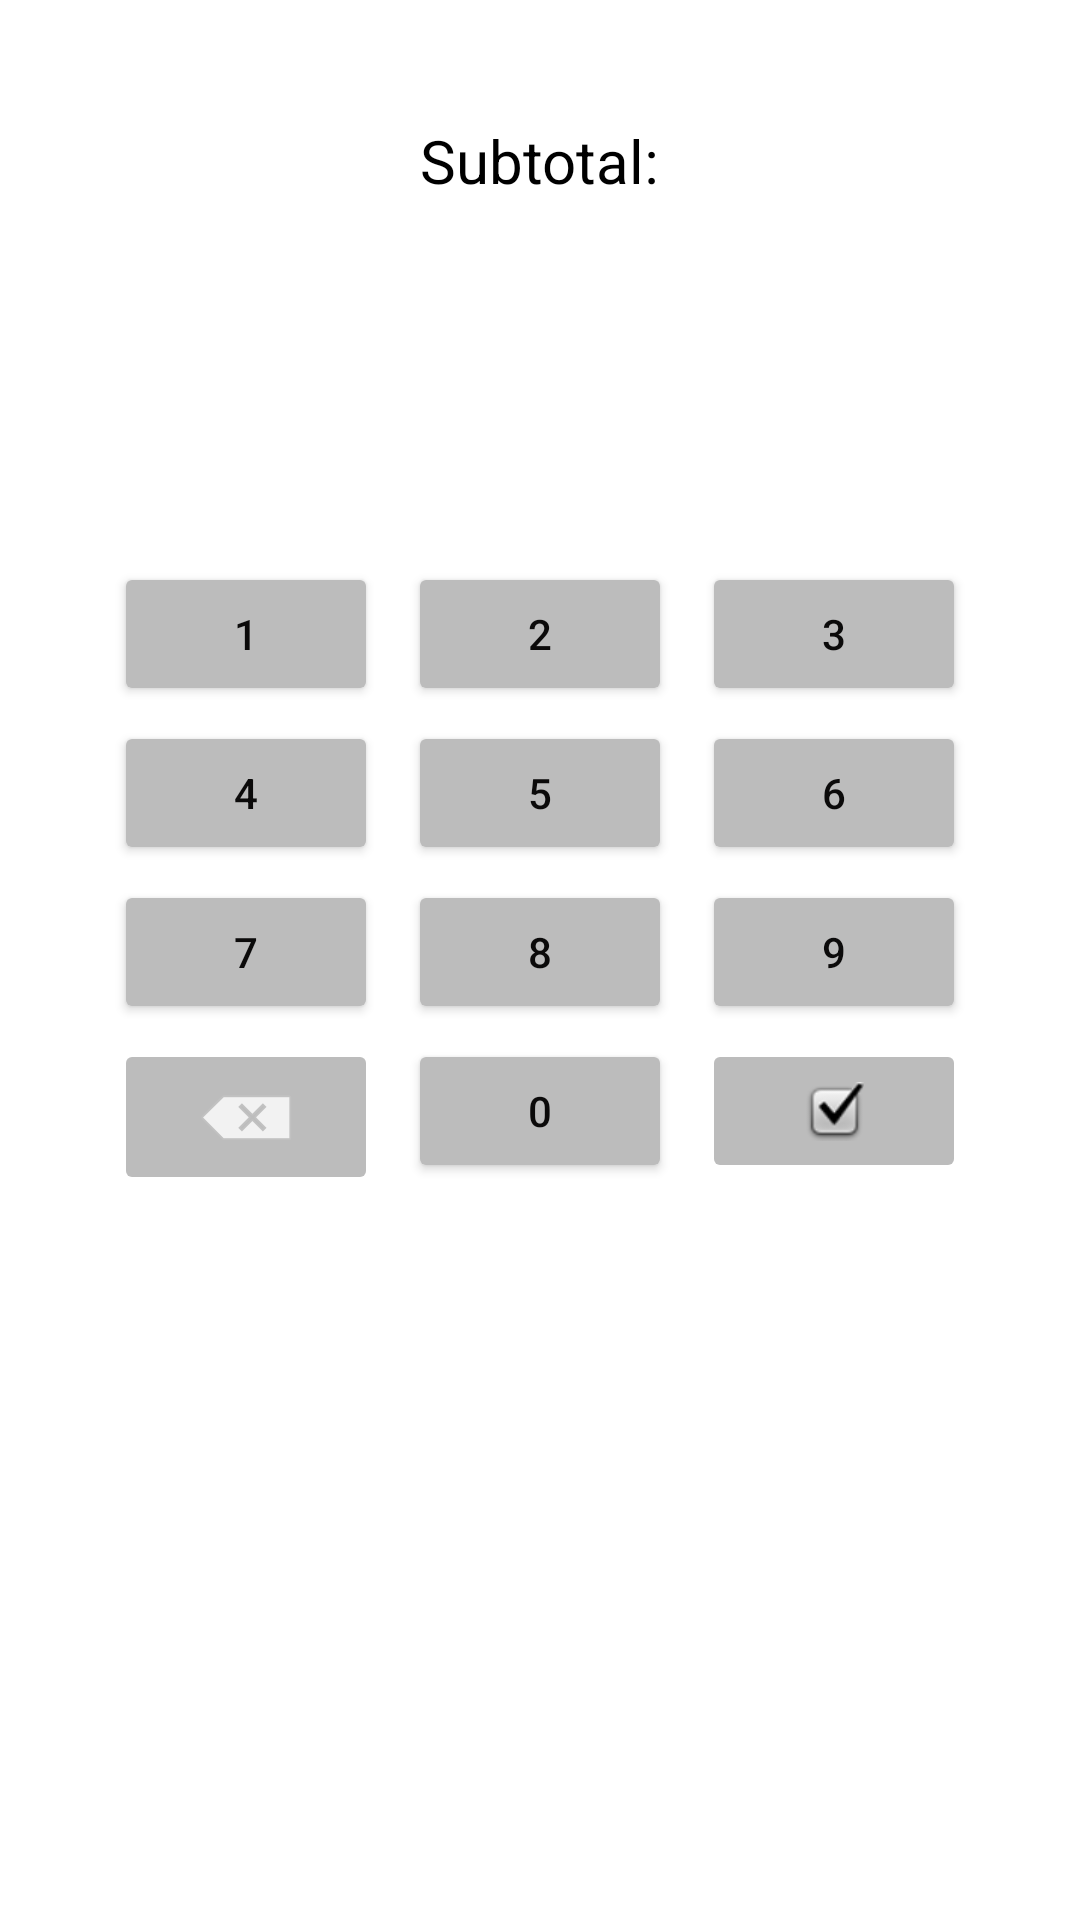

Screen size 1080 x 1920. Icon name, then its box in pixels as (x1, y1, x2, y2):
delete: (126, 1057, 366, 1177)
